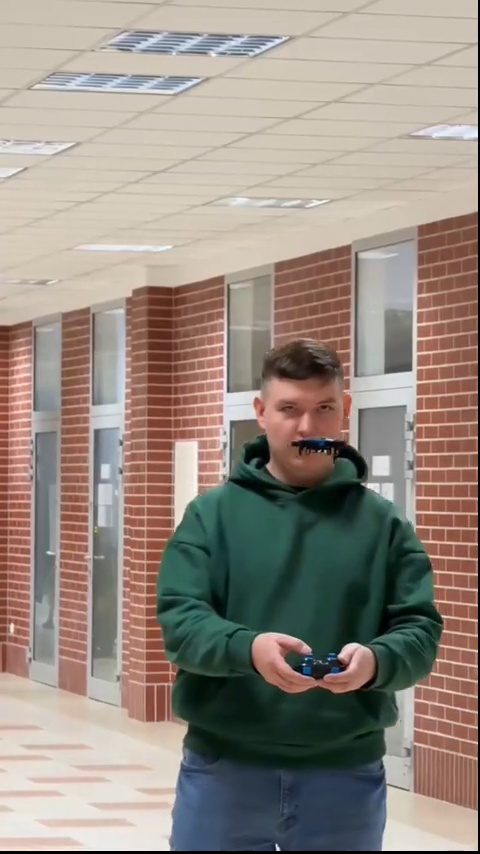drone: (296, 432, 343, 460)
no vest: (151, 338, 447, 854)
